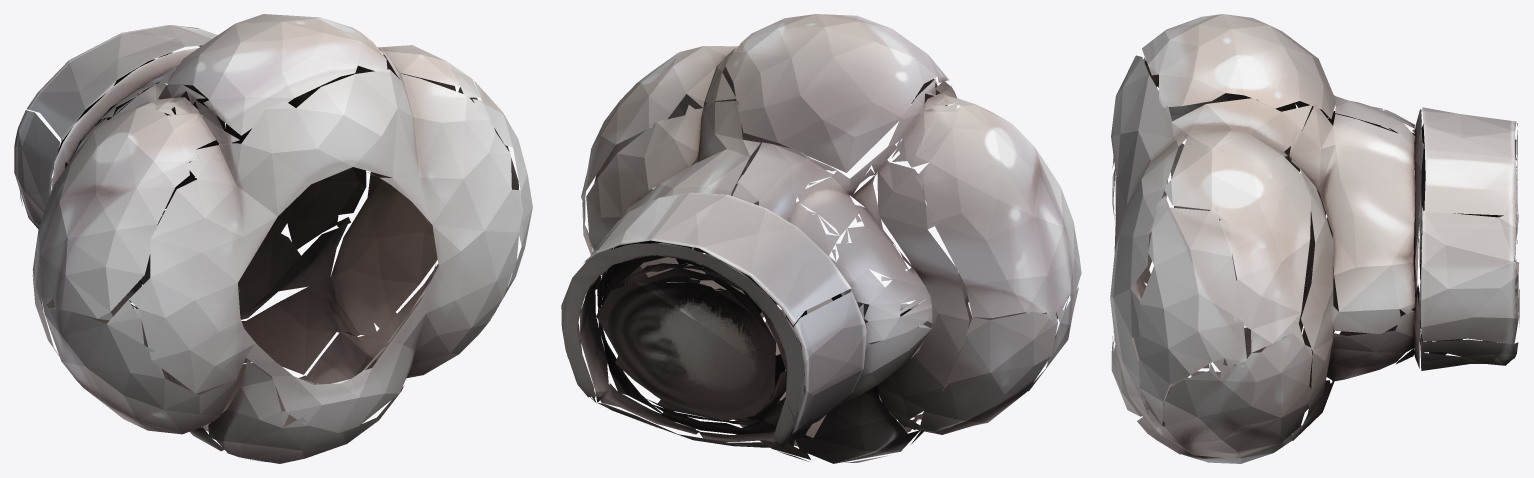
File: hatChefHat_lo.glb
3 views of the same model, side by side, from view 1: azimuth 30°, elevation 25°; view 2: azimuth 150°, elevation 25°; view 3: azimuth 270°, elevation 25° (orthographic).
Parts seen in each view (by area): view 1: geometry_0; view 2: geometry_0; view 3: geometry_0.
Part boxes in pixels (left/top/right/bottom): geometry_0: left=14, top=14, right=532, bottom=463; geometry_0: left=561, top=14, right=1081, bottom=463; geometry_0: left=1110, top=14, right=1519, bottom=463.
Size of the model in its own units: 1 by 0.874 by 0.7673.
Materials: 1 (1 with a texture image).
